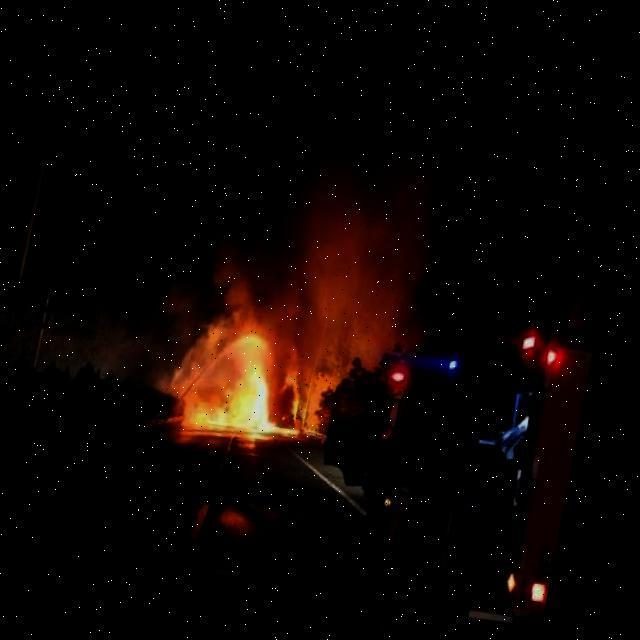Fire: (184, 311, 325, 428)
